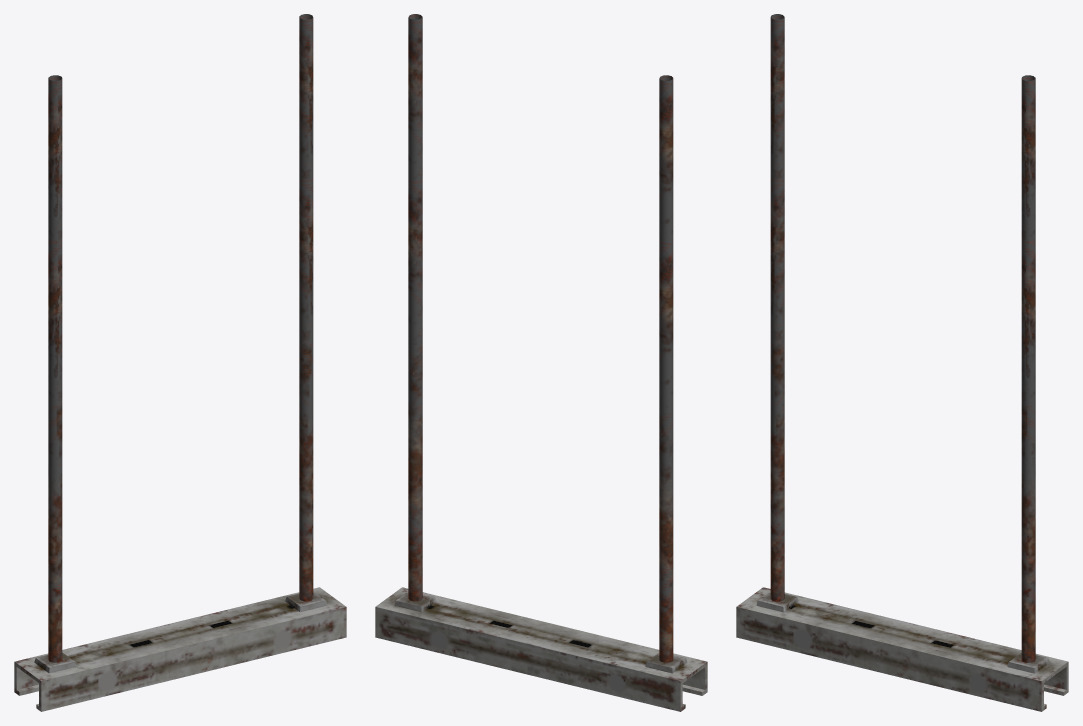
The model's file is Bracket_01a_snaps019.fbx.
The picture shows the model from 3 angles, left to right: view 1: azimuth 30°, elevation 25°; view 2: azimuth 150°, elevation 25°; view 3: azimuth 330°, elevation 25°; orthographic projection.
Parts seen in each view (by area): view 1: Bracket_01a_snaps019_LOD0; view 2: Bracket_01a_snaps019_LOD0; view 3: Bracket_01a_snaps019_LOD0.
Boxes of the visible parts, x1=… form: Bracket_01a_snaps019_LOD0: x1=14, y1=14, x2=346, y2=711; Bracket_01a_snaps019_LOD0: x1=375, y1=14, x2=707, y2=711; Bracket_01a_snaps019_LOD0: x1=736, y1=14, x2=1068, y2=711.
Size of what is drawn, in the model's own units: 26 by 50.25 by 3.96.
